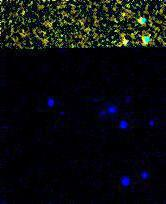star: (110, 23, 140, 53)
